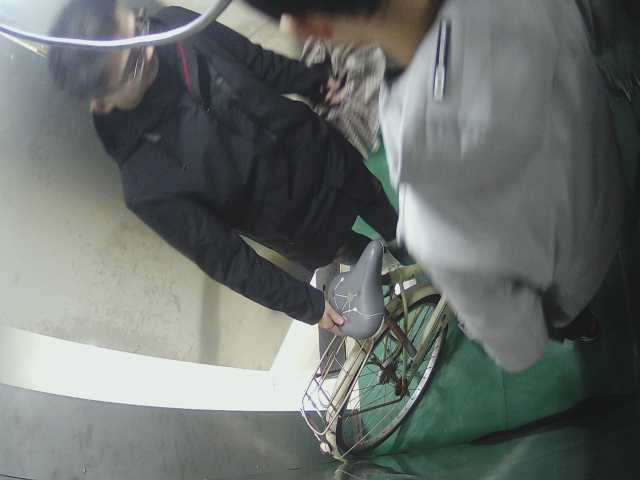bicycle: (298, 235, 486, 469)
person: (282, 1, 629, 378), (37, 2, 407, 330)
